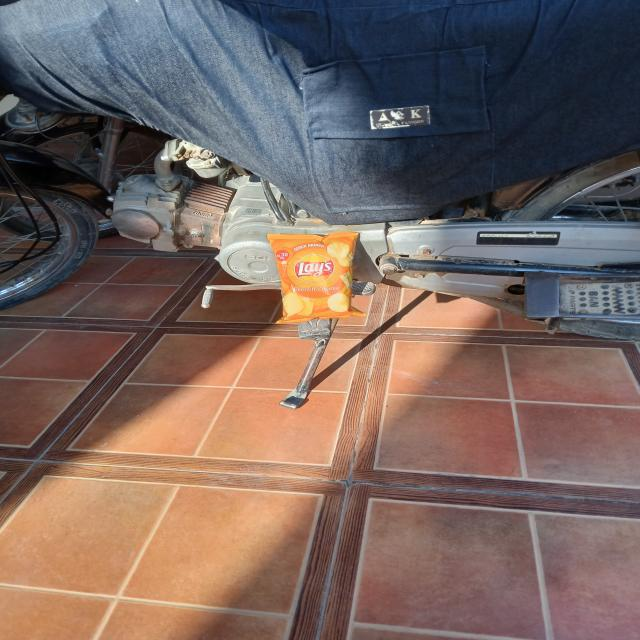Plastic: (273, 230, 355, 322)
